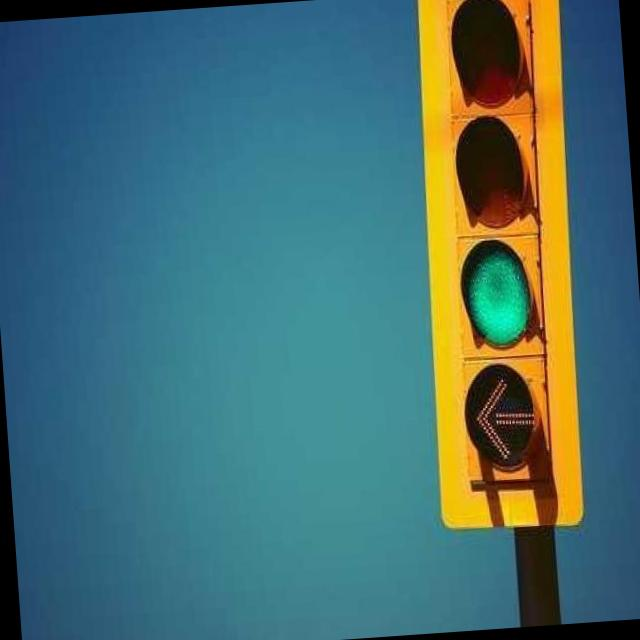green-lights: (434, 216, 564, 356)
